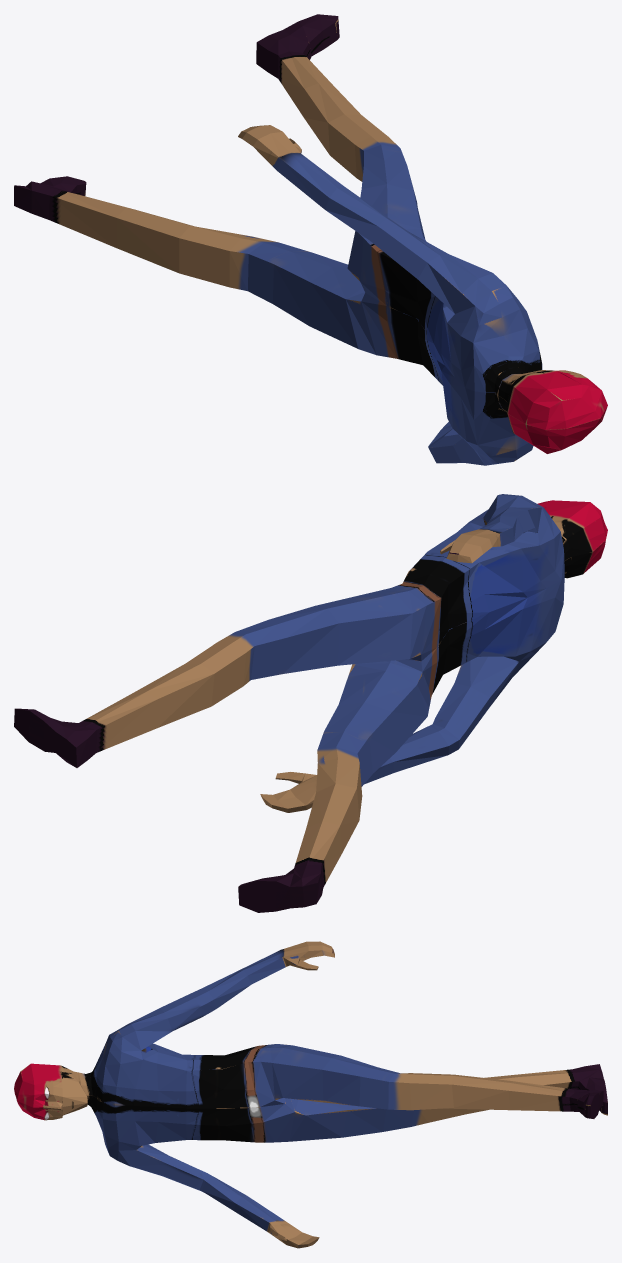
Rendered from mirrorman_000012.obj.
3 views of the same model, one above another, from view 1: azimuth 30°, elevation 25°; view 2: azimuth 150°, elevation 25°; view 3: azimuth 270°, elevation 25° (orthographic). The views are drawn at different scales.
Visible parts, largest first — view 1: mirrorman_Cube.001_Material.001; view 2: mirrorman_Cube.001_Material.001; view 3: mirrorman_Cube.001_Material.001.
Boxes of the visible parts, <box> form: mirrorman_Cube.001_Material.001: <box>14,14,607,465</box>; mirrorman_Cube.001_Material.001: <box>14,494,607,912</box>; mirrorman_Cube.001_Material.001: <box>14,941,607,1248</box>.
Size of the model in its own units: 0.8066 by 0.8017 by 1.86.
